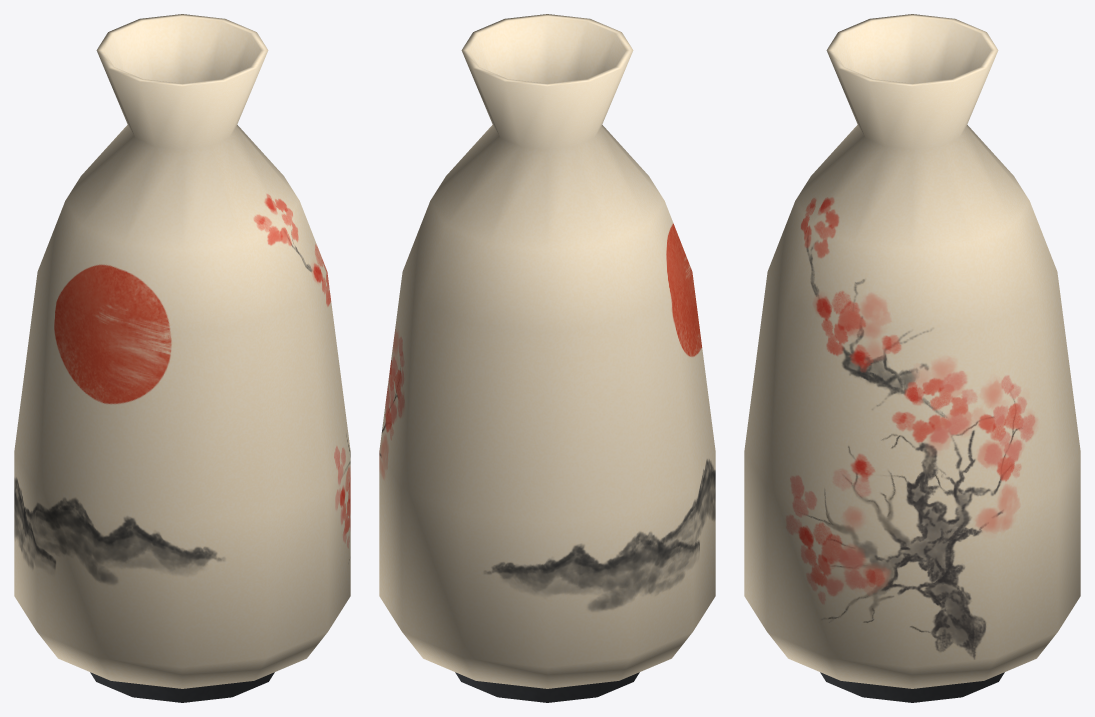
The model's file is jarrot.fbx.
3 views of the same model, side by side, from view 1: azimuth 30°, elevation 25°; view 2: azimuth 150°, elevation 25°; view 3: azimuth 270°, elevation 25° (orthographic).
Visible parts, largest first — view 1: Circle; view 2: Circle; view 3: Circle.
Part boxes in pixels (bbox=[...]): Circle: bbox=[14, 14, 350, 702]; Circle: bbox=[379, 14, 715, 702]; Circle: bbox=[744, 14, 1080, 702].
Bounding box in the file's own units: 119 × 238 × 119.
